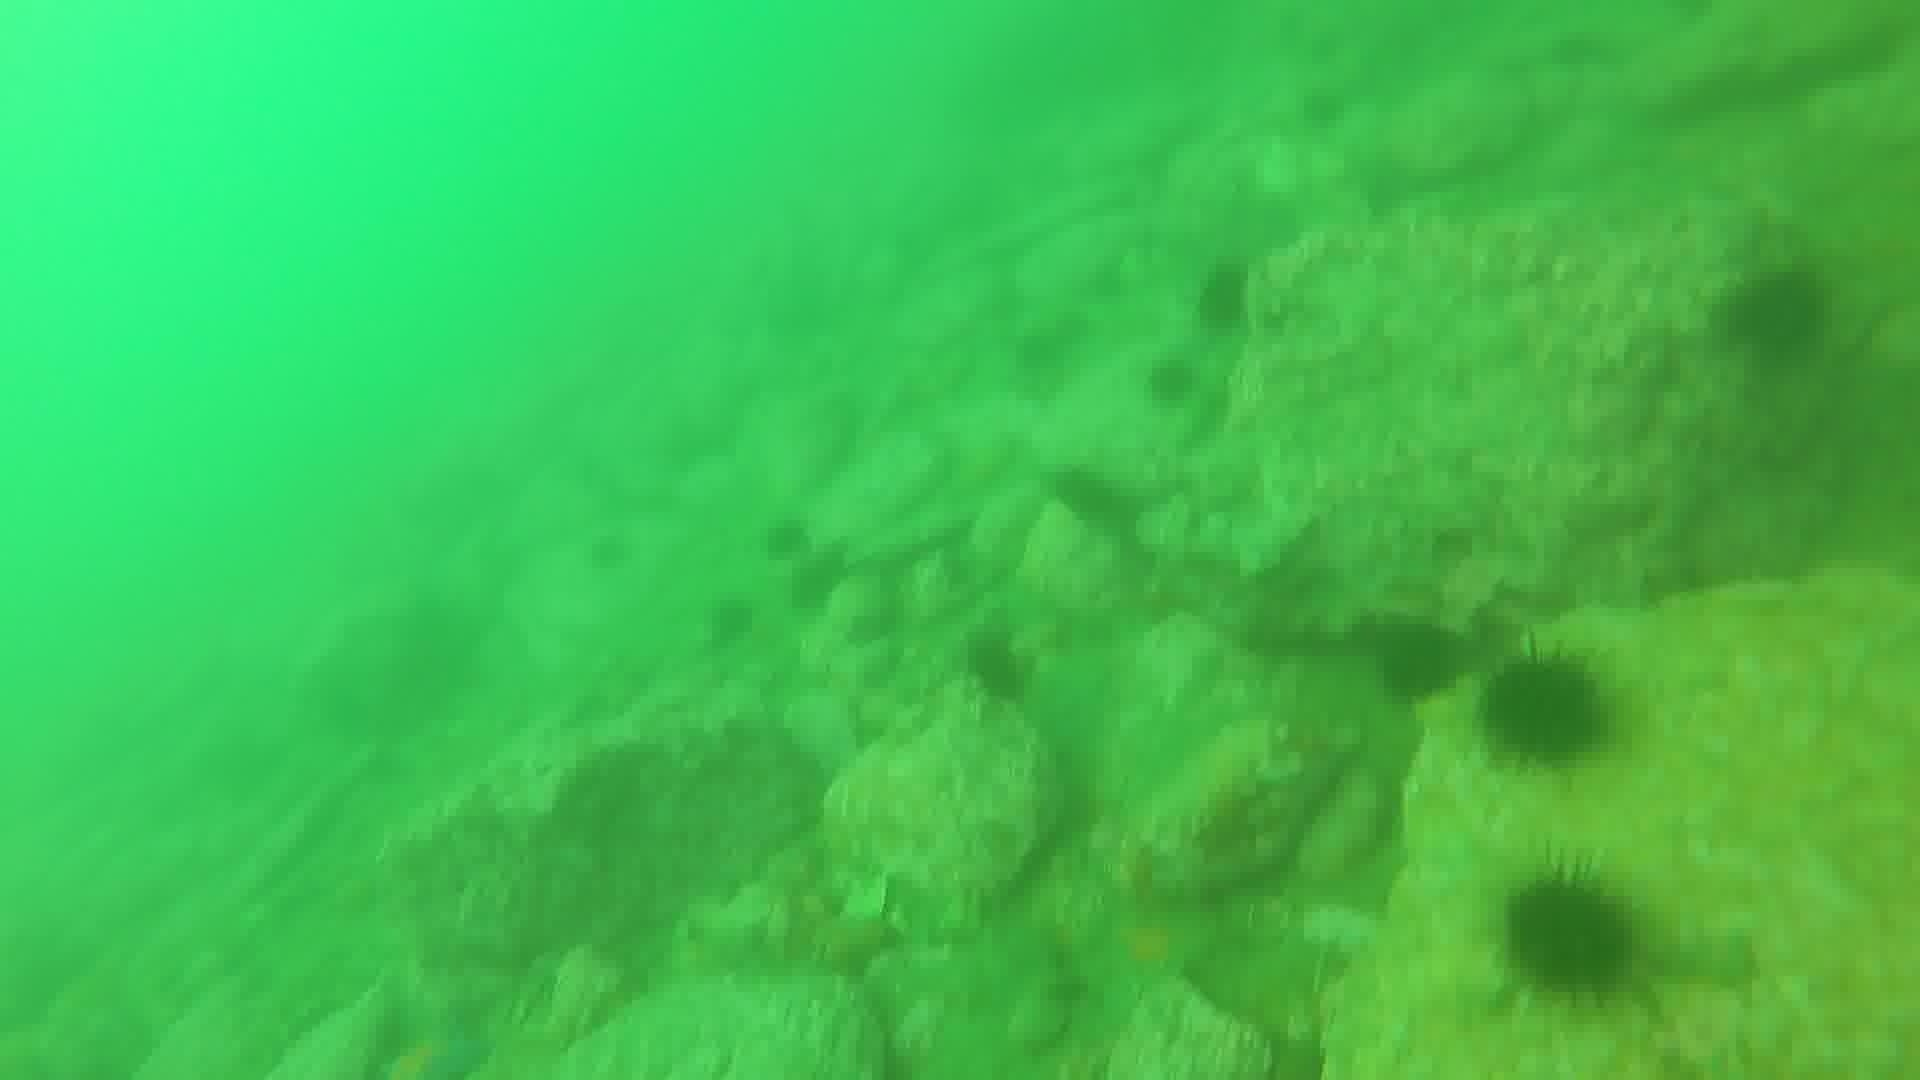echinus: (1495, 861, 1644, 1007), (1476, 646, 1611, 770), (1720, 262, 1836, 364), (1369, 616, 1466, 707), (957, 626, 1036, 708), (1044, 462, 1130, 534), (1189, 258, 1258, 336), (785, 547, 851, 616), (1139, 353, 1203, 411), (702, 592, 761, 651), (757, 512, 816, 564)
starfish: (1088, 894, 1211, 1001), (369, 1004, 496, 1077)
